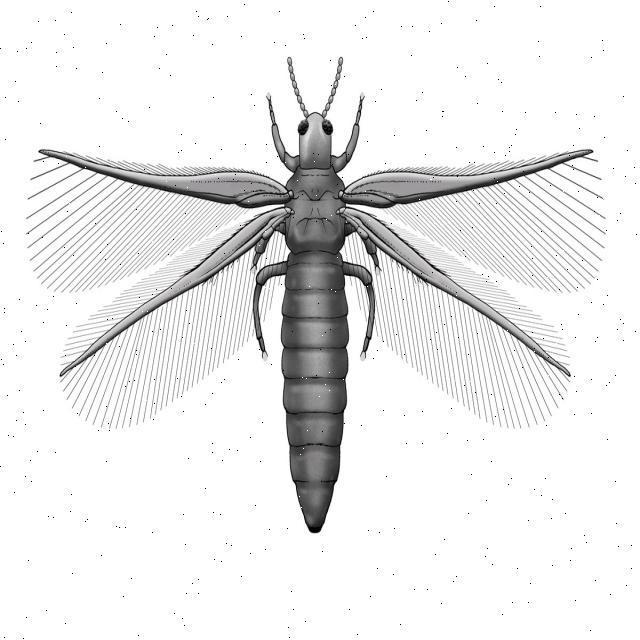Thrips: (202, 79, 424, 570)
